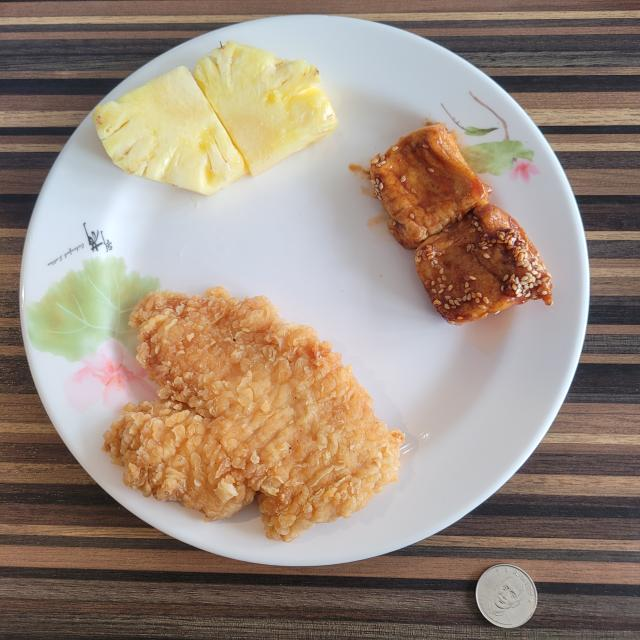coin: (476, 564, 538, 628)
creamy tofu: (370, 124, 552, 325)
fried chicken cutlet: (104, 288, 404, 541)
pineapple: (91, 41, 338, 195)
